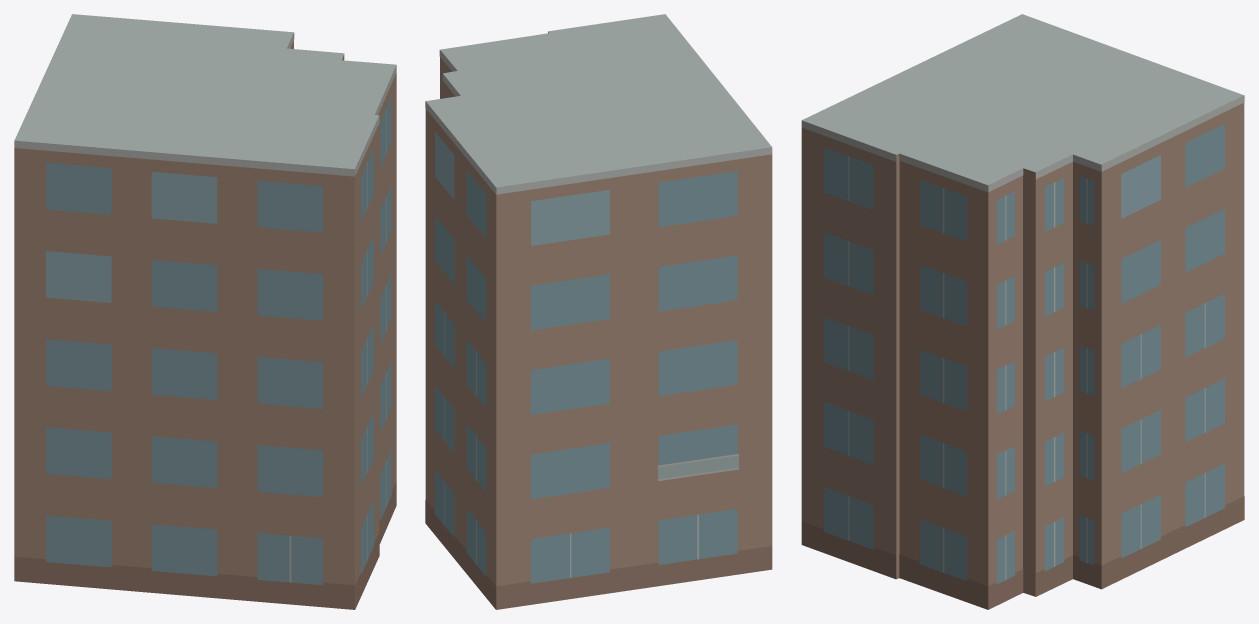
The model's file is survey-upis-32615348.glb.
The picture shows the model from 3 angles, left to right: view 1: azimuth 30°, elevation 25°; view 2: azimuth 150°, elevation 25°; view 3: azimuth 270°, elevation 25°; orthographic projection. The views are drawn at different scales.
Parts seen in each view (by area): view 1: survey-upis-32615348.tmp; view 2: survey-upis-32615348.tmp; view 3: survey-upis-32615348.tmp.
Part boxes in pixels (x1,y1,x2,y2): survey-upis-32615348.tmp: [14, 14, 396, 609]; survey-upis-32615348.tmp: [425, 14, 772, 609]; survey-upis-32615348.tmp: [801, 14, 1244, 609].
Bounding box in the file's own units: 12.65 × 14.6 × 13.81.
